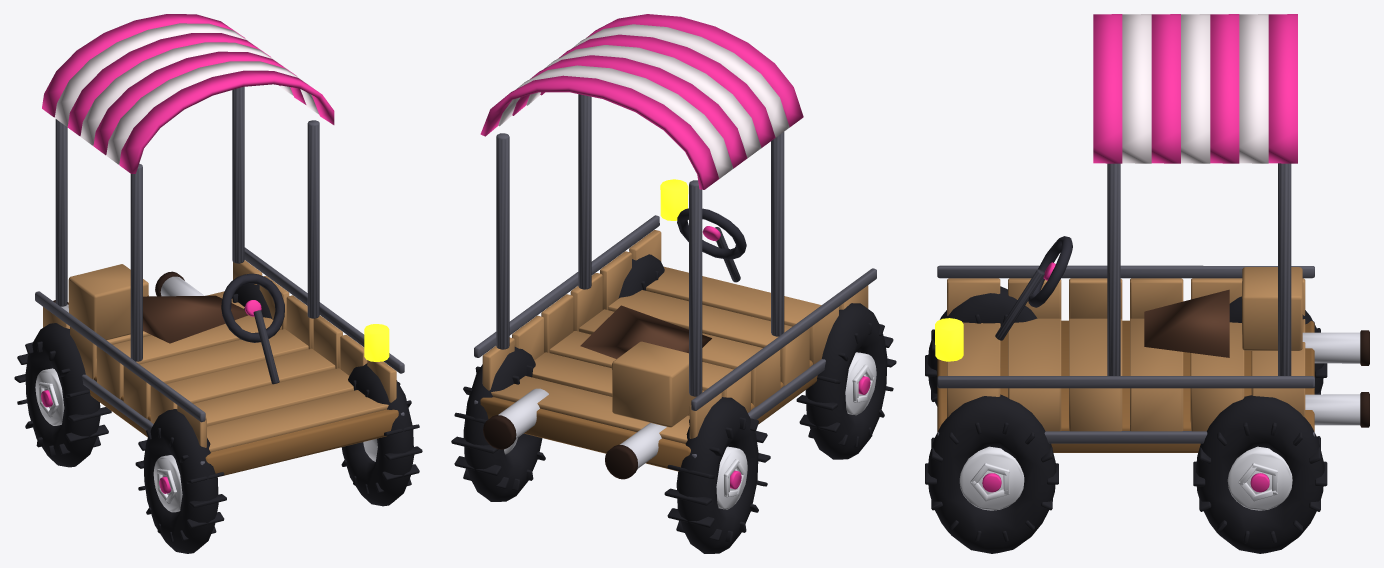
The model's file is kart-gerobak-lod.glb.
The picture shows the model from 3 angles, left to right: view 1: azimuth 30°, elevation 25°; view 2: azimuth 150°, elevation 25°; view 3: azimuth 270°, elevation 25°; orthographic projection. The views are drawn at different scales.
Parts seen in each view (by area): view 1: Torus.005, Torus.007, Cube, Torus.006, Cube.003, arch, Cube.024, Cube.006, Cube.009, Cube.012, Cube.023, arch.001 (+28 smaller); view 2: Torus.007, Torus.005, Cube.024, Torus.008, arch.006, Cube, arch.005, Cube.006, Cube.018, arch.004, Cube.003, arch.003 (+34 smaller); view 3: Torus.006, Torus.008, Cube, Cube.021, Cube.023, arch, arch.001, arch.003, arch.004, arch.005, arch.002, arch.006 (+31 smaller).
Part boxes in pixels (left/top/right/bottom): Torus.005: left=143, top=409, right=218, bottom=553; Torus.007: left=25, top=323, right=100, bottom=467; Cube: left=89, top=329, right=398, bottom=477; Torus.006: left=341, top=363, right=414, bottom=506; Cube.003: left=207, top=390, right=388, bottom=452; arch: left=119, top=70, right=334, bottom=173; Cube.024: left=68, top=264, right=148, bottom=340; Cube.006: left=193, top=368, right=353, bottom=426; Cube.009: left=166, top=348, right=335, bottom=403; Cube.012: left=140, top=329, right=308, bottom=383; Cube.023: left=143, top=295, right=248, bottom=343; arch.001: left=106, top=61, right=319, bottom=164; Torus.007: left=676, top=397, right=758, bottom=553; Torus.005: left=805, top=303, right=887, bottom=459; Cube.024: left=612, top=341, right=696, bottom=427; Torus.008: left=463, top=347, right=542, bottom=501; arch.006: left=480, top=75, right=719, bottom=189; Cube: left=480, top=309, right=817, bottom=471; arch.005: left=498, top=65, right=733, bottom=178; Cube.006: left=608, top=290, right=791, bottom=347; Cube.018: left=491, top=376, right=689, bottom=443; arch.004: left=512, top=55, right=747, bottom=168; Cube.003: left=646, top=266, right=821, bottom=326; arch.003: left=526, top=45, right=761, bottom=158; Torus.006: left=927, top=394, right=1056, bottom=553; Torus.008: left=1196, top=395, right=1324, bottom=553; Cube: left=937, top=320, right=1314, bottom=452; Cube.021: left=937, top=376, right=1314, bottom=388; Cube.023: left=1144, top=289, right=1229, bottom=357; arch: left=1093, top=14, right=1122, bottom=163; arch.001: left=1122, top=14, right=1151, bottom=163; arch.003: left=1181, top=14, right=1210, bottom=163; arch.004: left=1210, top=14, right=1239, bottom=163; arch.005: left=1239, top=14, right=1268, bottom=163; arch.002: left=1151, top=14, right=1180, bottom=163; arch.006: left=1268, top=14, right=1297, bottom=163.
Size of the model in its own units: 2.52 by 4.21 by 3.65.
